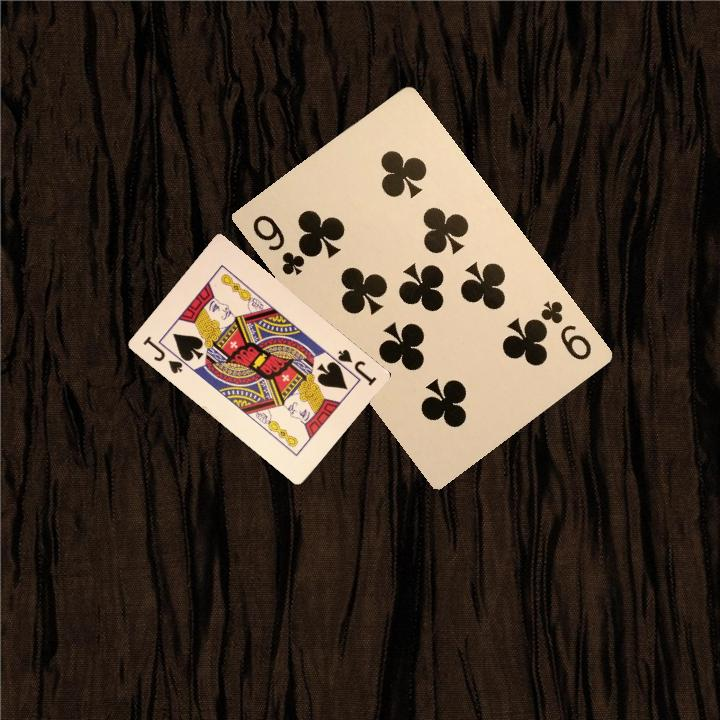9c: (534, 296, 595, 363), (248, 210, 308, 278)
Js: (326, 345, 379, 389), (138, 332, 189, 376)
